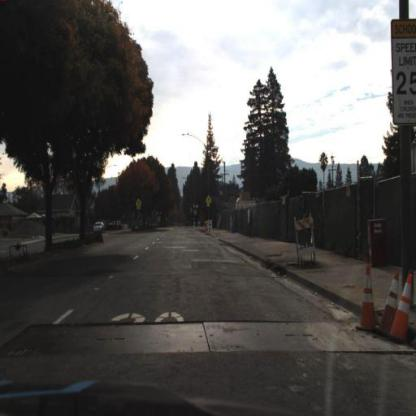car: (94, 221, 106, 233)
